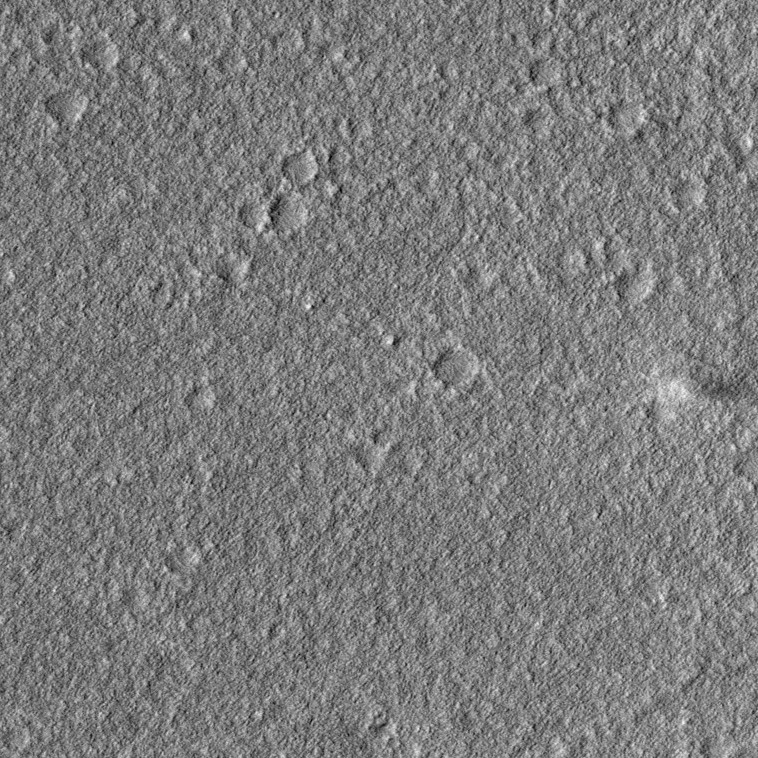dust_devil: (653, 373, 758, 416)
